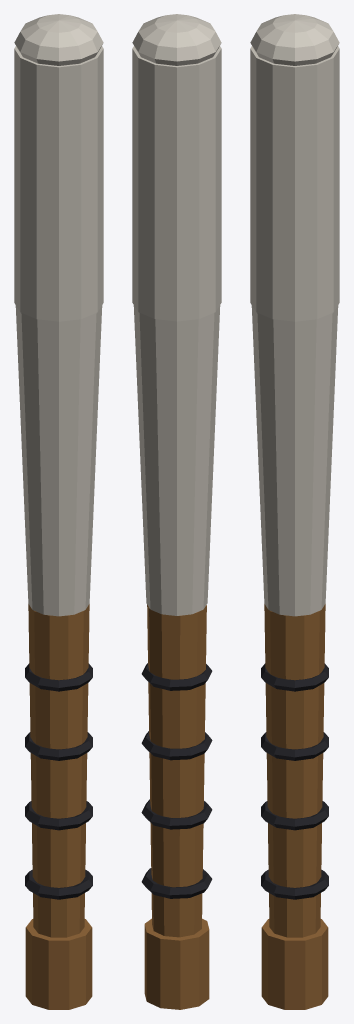
File: bat.glb
3 renders of one model, left to right at view 1: azimuth 90°, elevation 25°; view 2: azimuth 150°, elevation 25°; view 3: azimuth 270°, elevation 25°, orthographic.
Visible parts, largest first — view 1: bat; view 2: bat; view 3: bat.
Part boxes in pixels (x1,y1,x2,y2): bat: (14,14,103,1009); bat: (132,14,221,1009); bat: (250,14,339,1009).
Bounding box in the file's own units: 0.07 × 0.8442 × 0.07.
